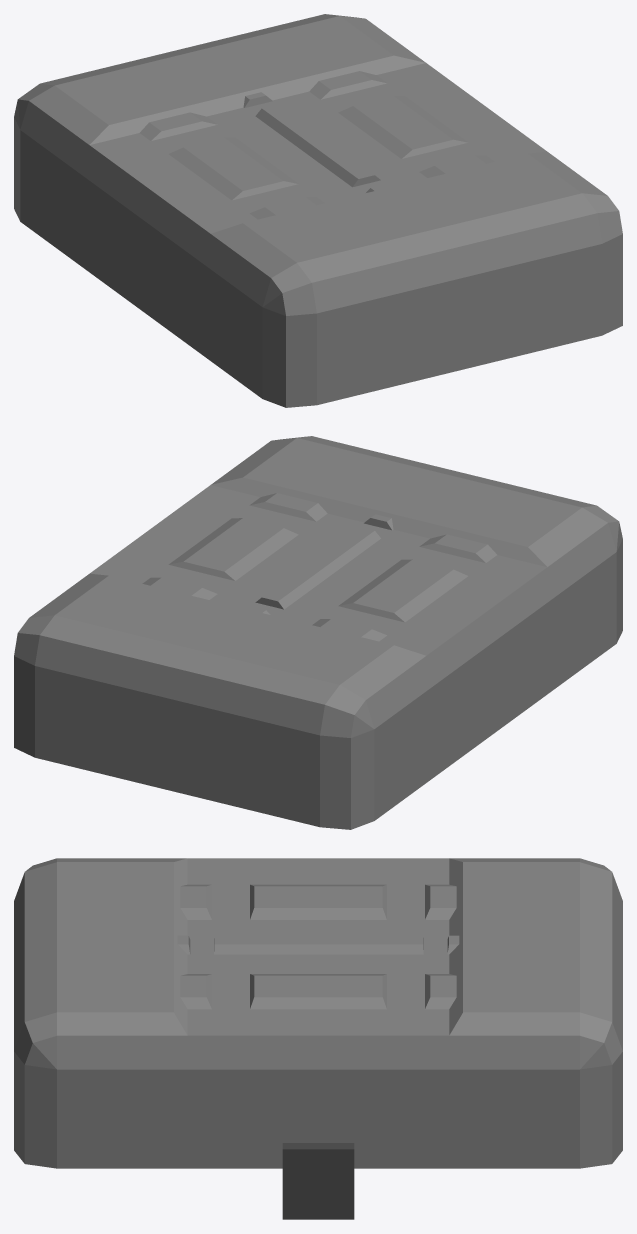
File: prop_50.FBX
3 renders of one model, top to bottom at view 1: azimuth 30°, elevation 25°; view 2: azimuth 150°, elevation 25°; view 3: azimuth 270°, elevation 25°, orthographic. The views are drawn at different scales.
Visible parts, largest first — view 1: prop_50; view 2: prop_50; view 3: prop_50.
Boxes of the visible parts, <box> form: prop_50: <box>14,14,622,407</box>; prop_50: <box>14,436,622,829</box>; prop_50: <box>14,858,622,1219</box>.
Size of the model in its own units: 25.9 by 11.45 by 34.56.
